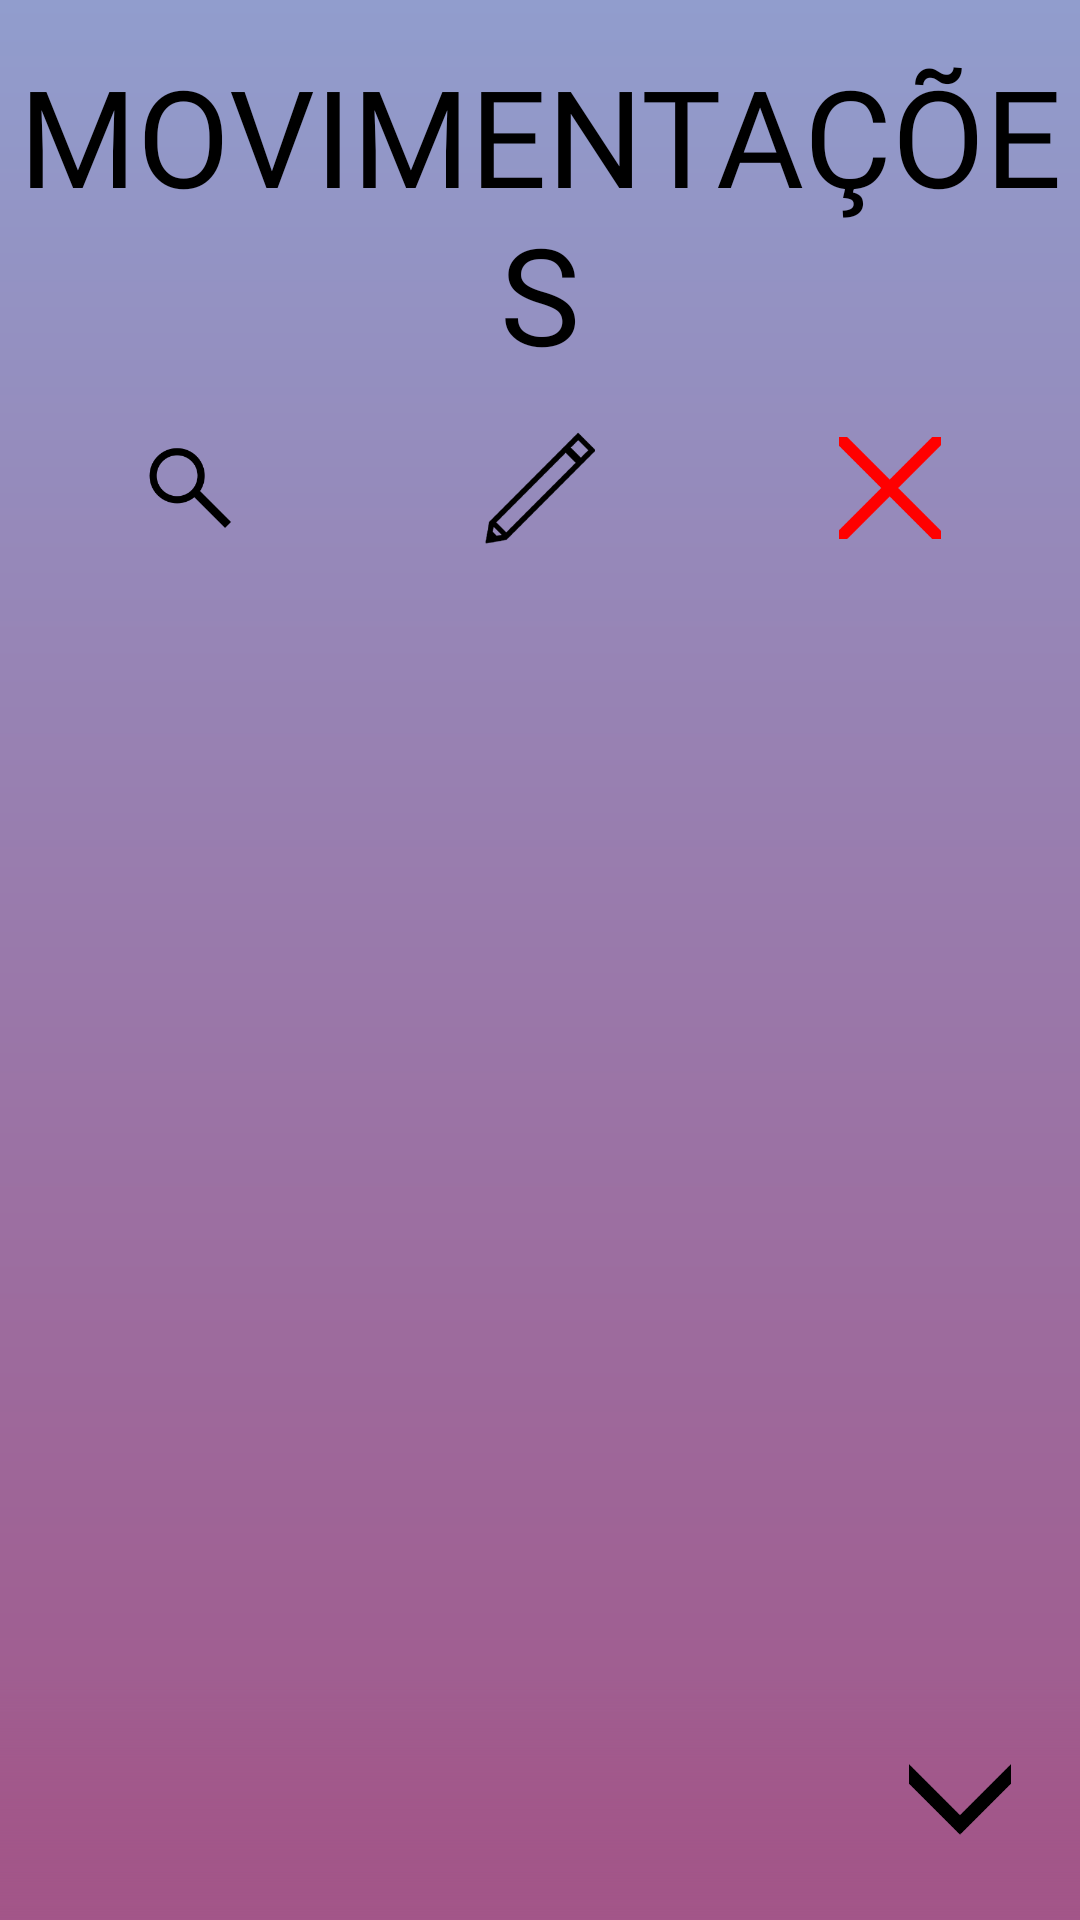

Locate icon controls on the screen. Image size 1080 x 1920, boxes as rect(x1, y1, x2, y2).
editar: rect(485, 433, 595, 544)
excluir: rect(839, 437, 941, 539)
expandir: rect(909, 1764, 1011, 1835)
